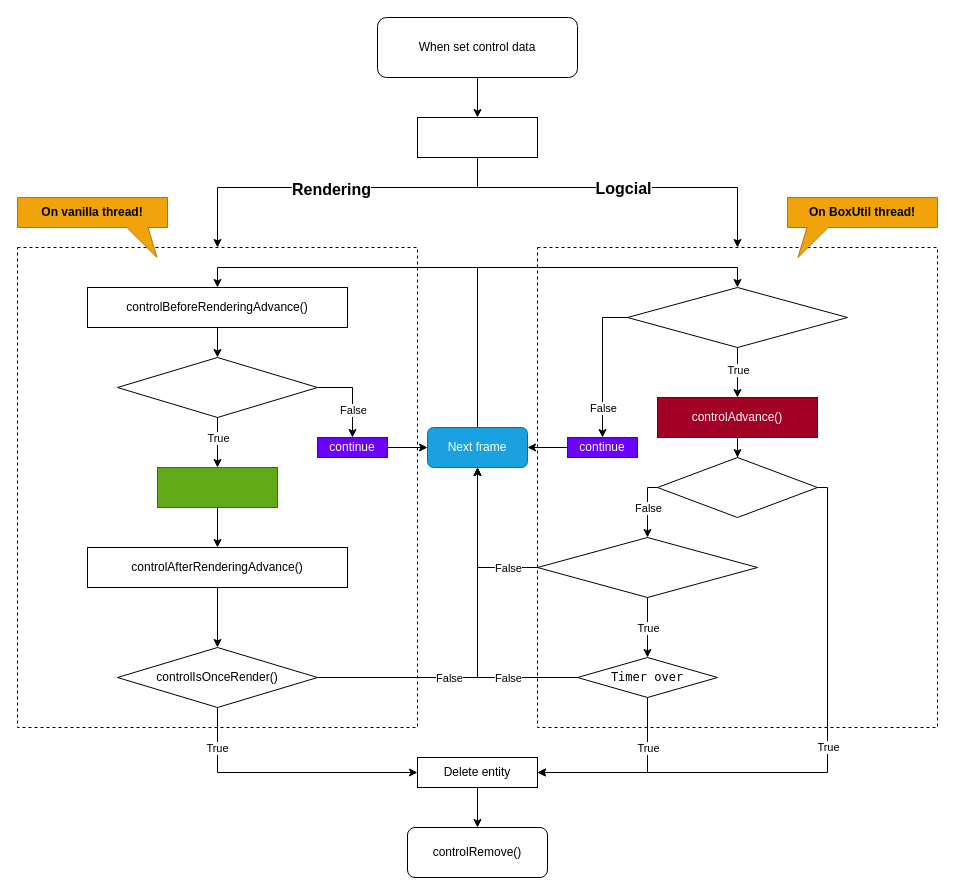
The diagram is 955 pixels wide and 895 high, and some of its shapes have lost their labels. The shapes that lost their labels are listed below. From the top down, each one's centre as x and y in pixels, then its label:
(477,137): controlInit()
(737,317): controlRunWhilePaused() Or Game not paused
(217,387): controlCanRenderNow()
(217,487): Rendering...
(737,487): controlIsDone()
(647,567): controlRemoveBasedTimer()
